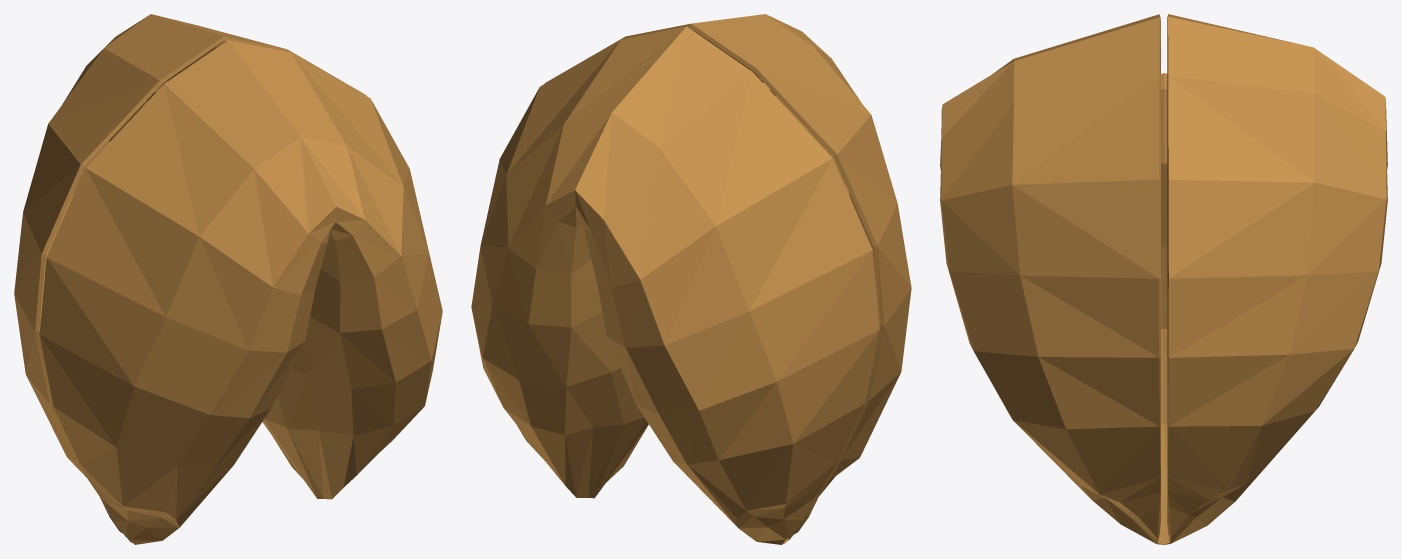
Rendered from 219af1ff-3b4d-4280-9745-d4fc83b6aee1.glb.
3 views of the same model, side by side, from view 1: azimuth 30°, elevation 25°; view 2: azimuth 150°, elevation 25°; view 3: azimuth 270°, elevation 25° (orthographic). The views are drawn at different scales.
Visible parts, largest first — view 1: Node; view 2: Node; view 3: Node.
Part boxes in pixels (x1,y1,x2,y2): Node: (14, 14, 442, 544); Node: (471, 14, 911, 544); Node: (940, 14, 1387, 544).
Bounding box in the file's own units: 2.28 × 2.8 × 2.35.
